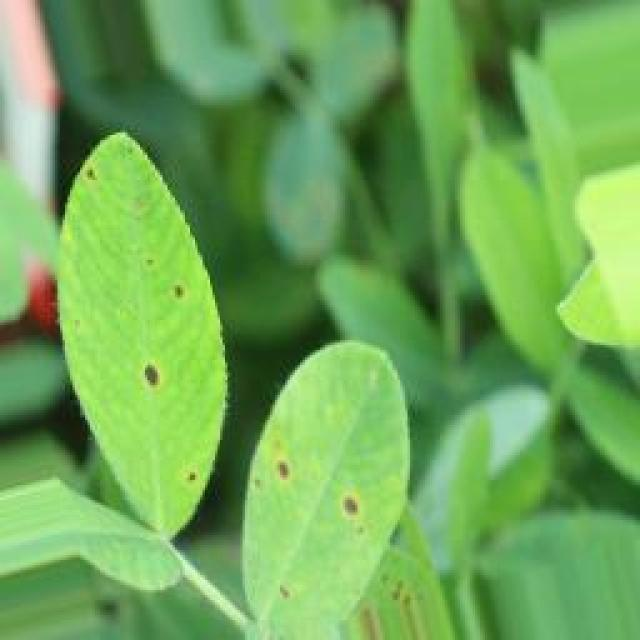Sigatoka: (313, 475, 382, 549), (161, 440, 222, 503), (71, 156, 128, 217), (131, 347, 195, 400), (265, 428, 309, 492), (161, 250, 196, 319), (258, 560, 307, 609)
